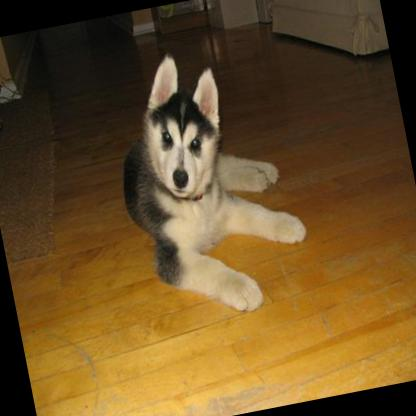Siberian_husky: (97, 31, 319, 328)
